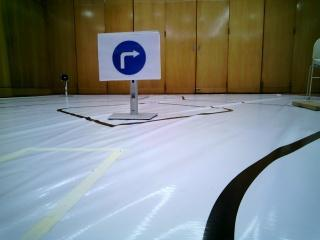right: (101, 35, 156, 78)
